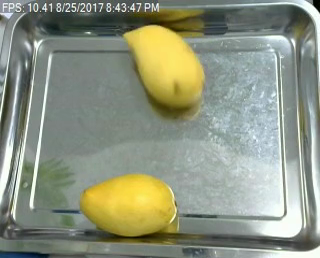Mango: (119, 18, 209, 115), (77, 170, 178, 240)
